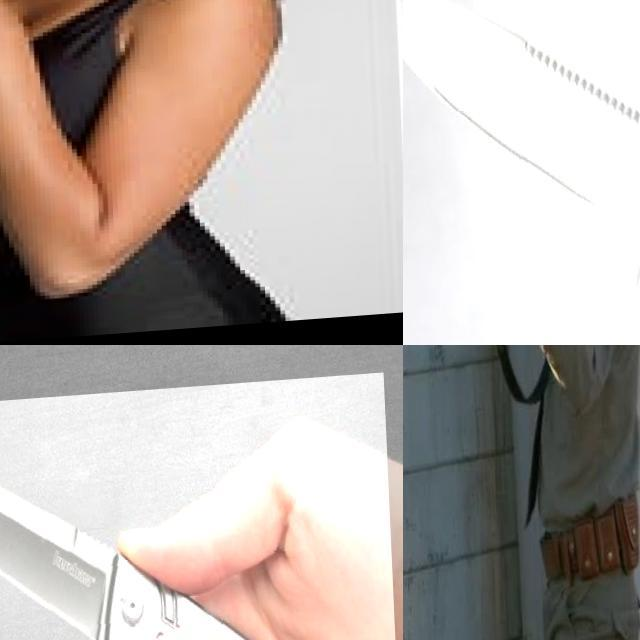-: (0, 380, 400, 640), (403, 0, 640, 345)
gun-knife-thesis - v11 Yolov5 augmented: (424, 345, 568, 446), (0, 0, 59, 111)
